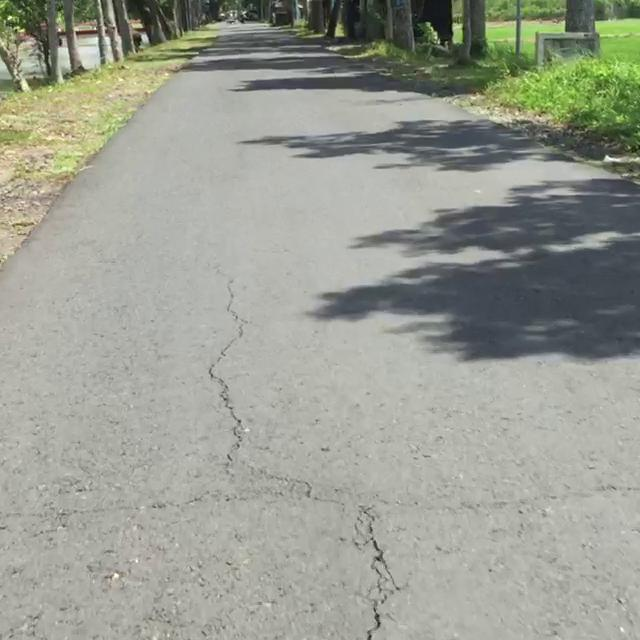retak_memanjang: (184, 234, 269, 506), (307, 464, 424, 640)
